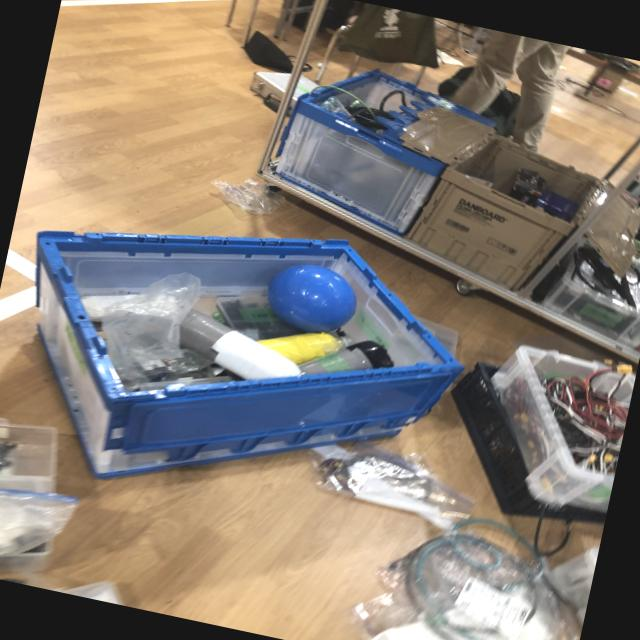blue_ball: (260, 255, 364, 336)
